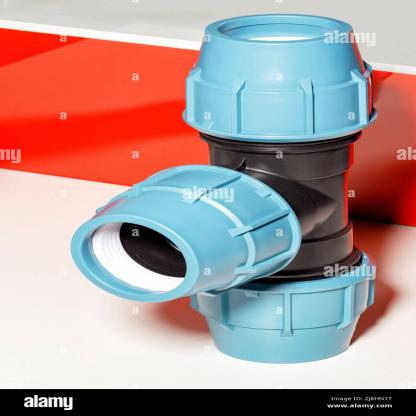PVC: (72, 15, 377, 362)
